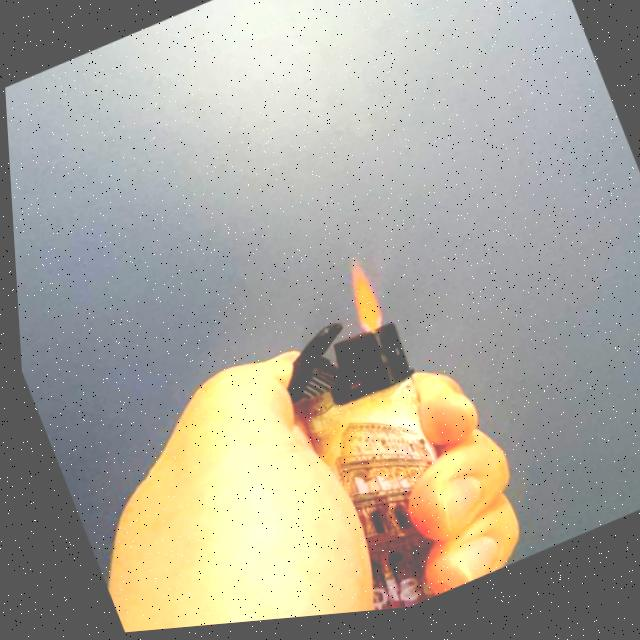Fire: (332, 258, 390, 344)
